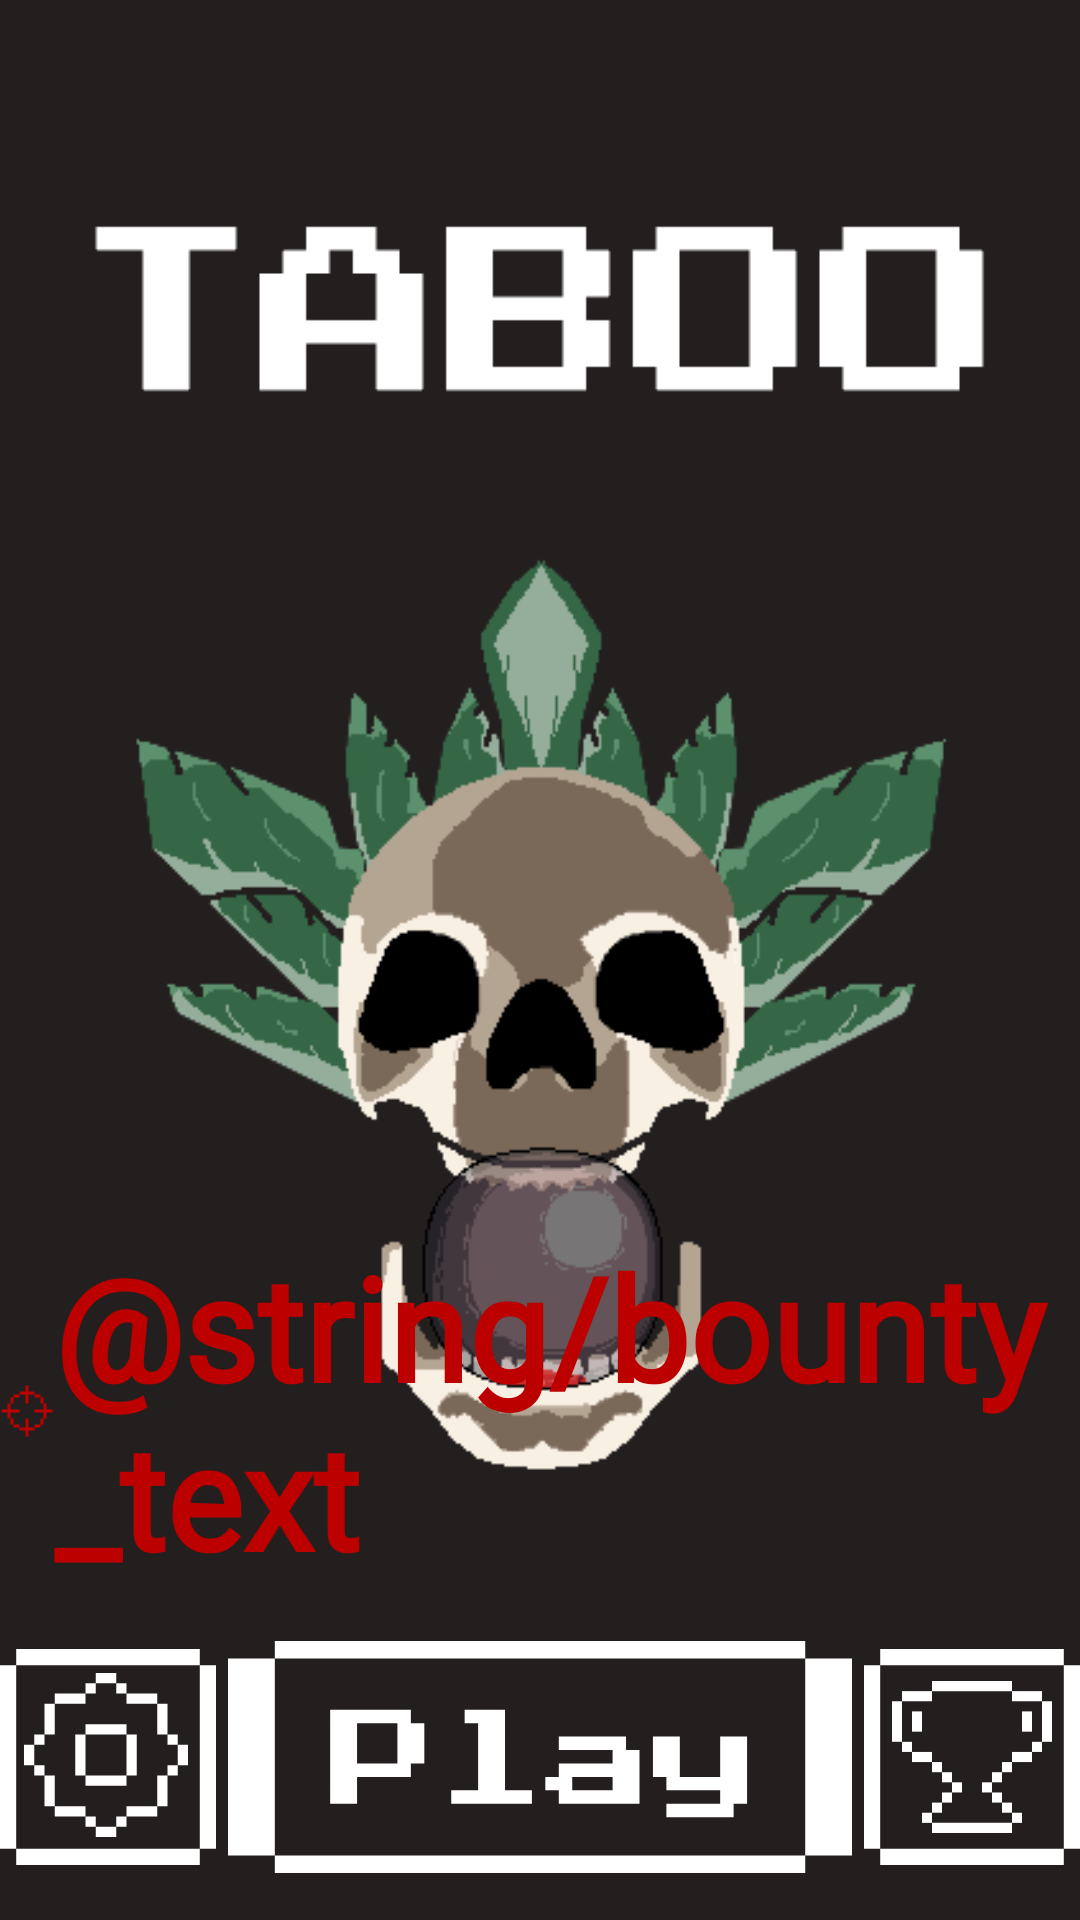

Named icons in this screenshot (1080x1920) and their centers, [x,y]:
Settings: [108,1757]
target: [27,1411]
Treasures: [972,1757]
